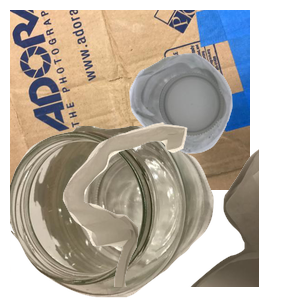cardboard: (10, 10, 250, 190)
glass: (10, 126, 216, 300)
plastic: (127, 51, 300, 197)
trash: (60, 120, 300, 300)
